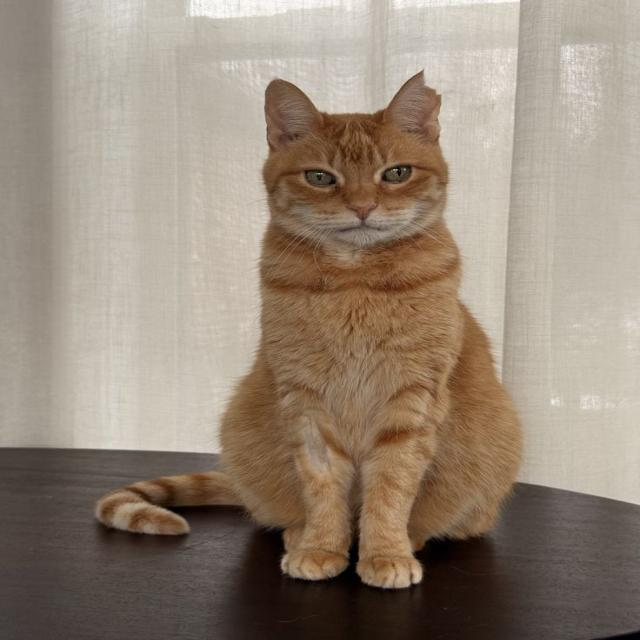sarman: (98, 59, 606, 576)
